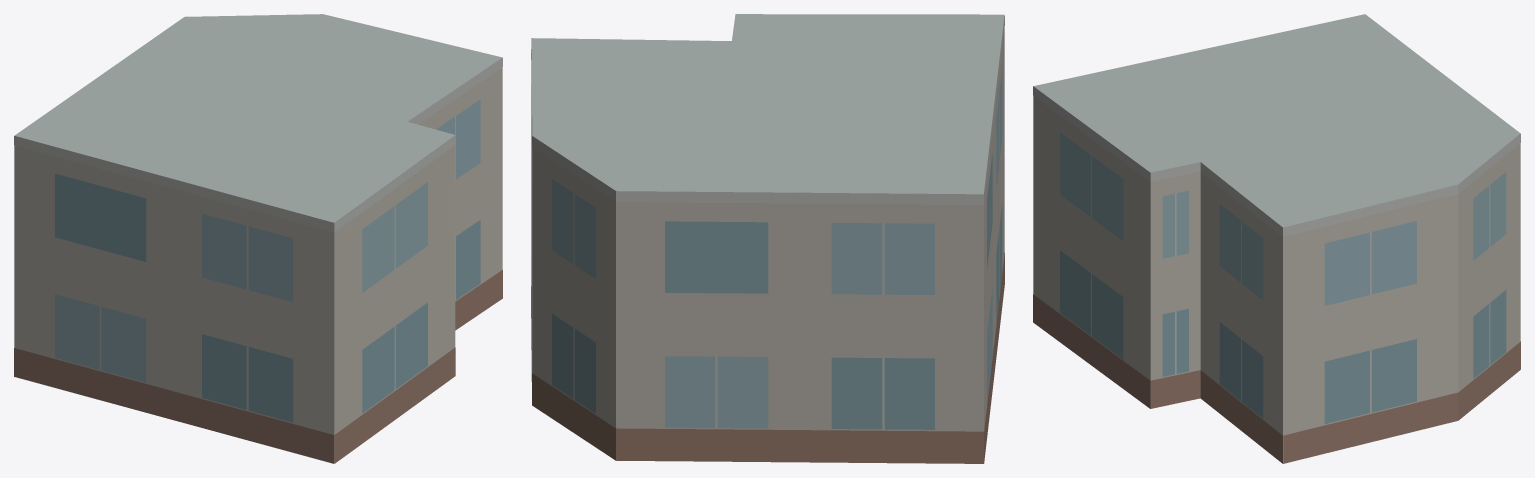
The model's file is survey-upis-32654605.glb.
3 views of the same model, side by side, from view 1: azimuth 30°, elevation 25°; view 2: azimuth 150°, elevation 25°; view 3: azimuth 270°, elevation 25° (orthographic). The views are drawn at different scales.
Visible parts, largest first — view 1: survey-upis-32654605.tmp; view 2: survey-upis-32654605.tmp; view 3: survey-upis-32654605.tmp.
Boxes of the visible parts, bbox=[...] form: survey-upis-32654605.tmp: bbox=[14, 14, 502, 463]; survey-upis-32654605.tmp: bbox=[531, 14, 1004, 463]; survey-upis-32654605.tmp: bbox=[1033, 14, 1520, 463].
Size of the model in its own units: 11.84 by 6.1 by 11.42.
